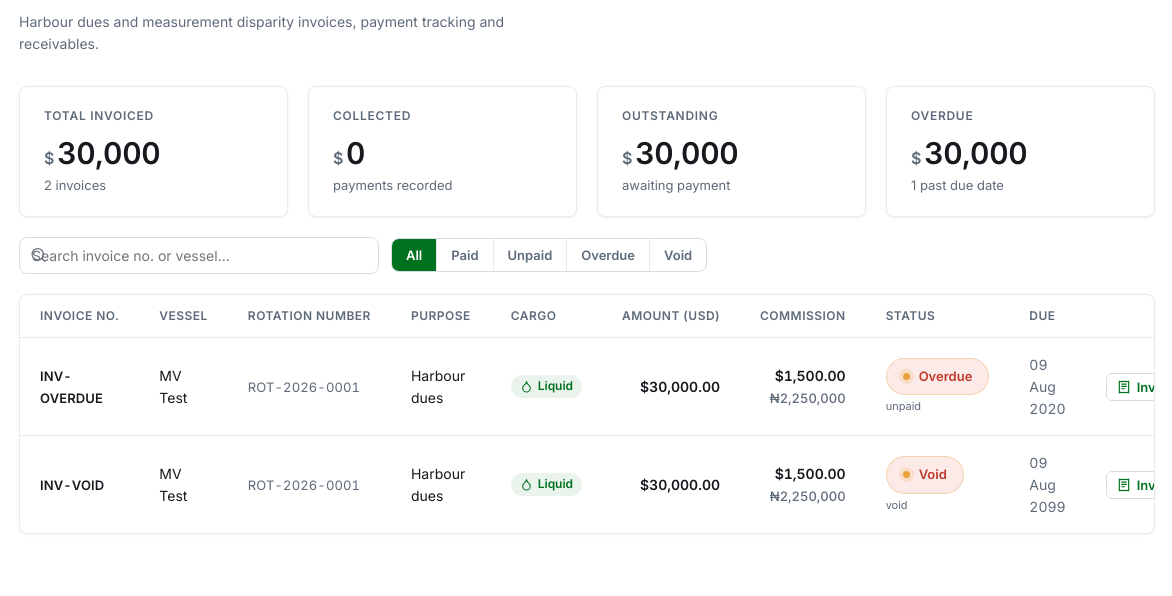
Test case: Invoices payment workflow › keeps void invoices out of receivables and filters overdue invoices
Expected: the text "1 past due date" is shown, [911,176,1004,196]
Click the button "Overdue" at [609, 255], box [567,239,650,271]
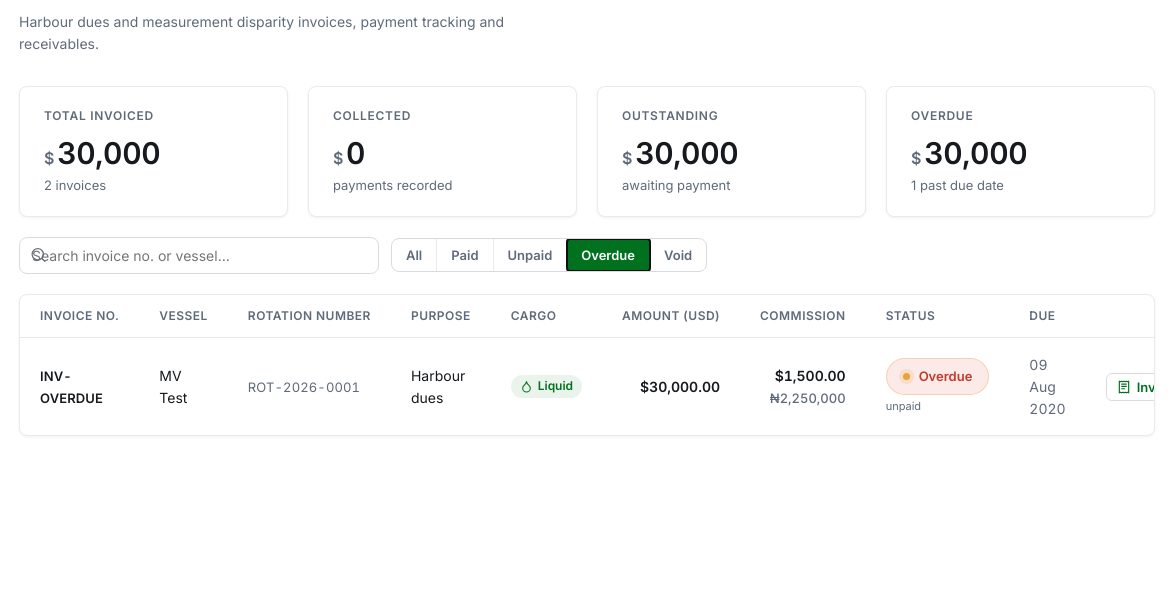
Expected: the text "INV-OVERDUE" is shown, [40,368,103,406]
Now the text "INV-VOID" is gone
Type "not-a-vessel" into the field named "Search invoices" at [199, 255], box [19,237,379,274]
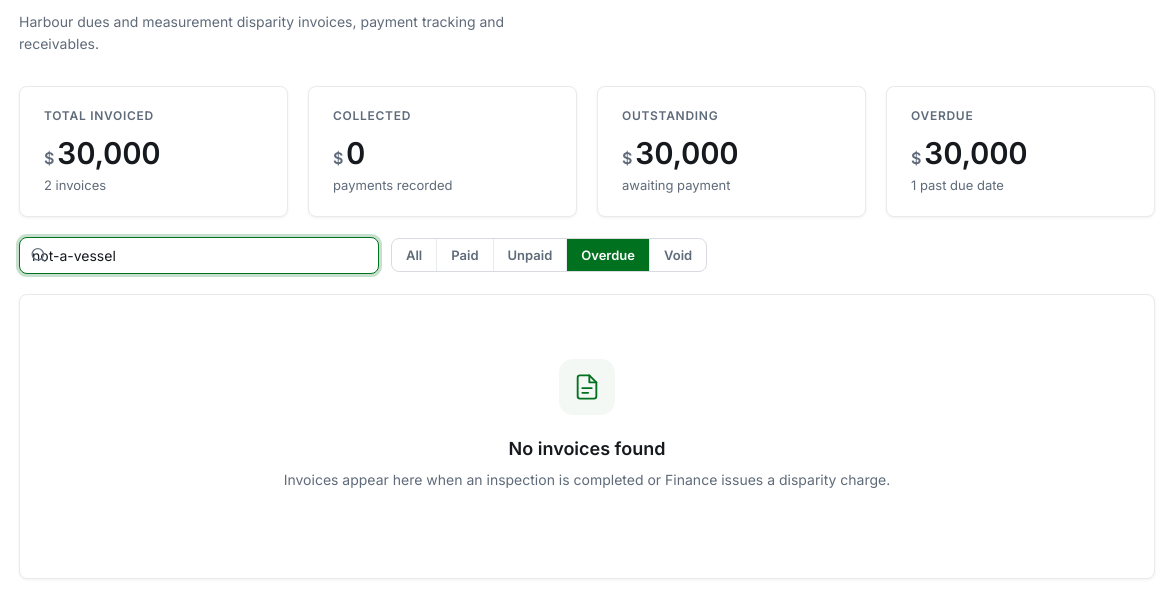
Now the heading "No invoices found" is shown, box [509,438,665,459]
